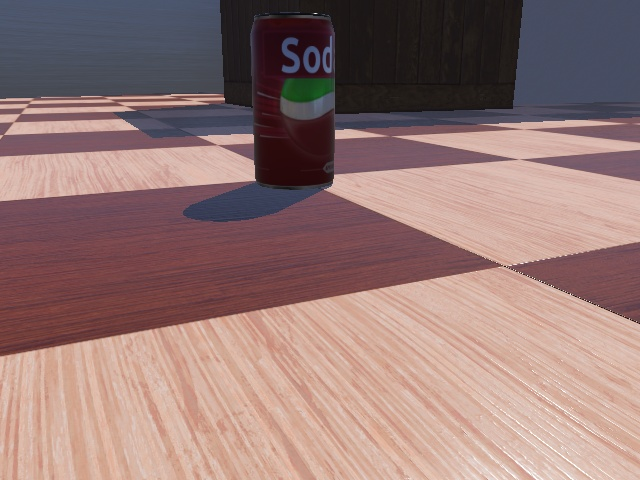lon_nuoc: (249, 13, 338, 188)
